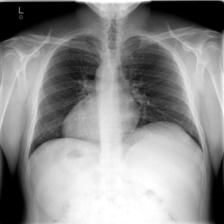normal: (20, 26, 210, 161)
